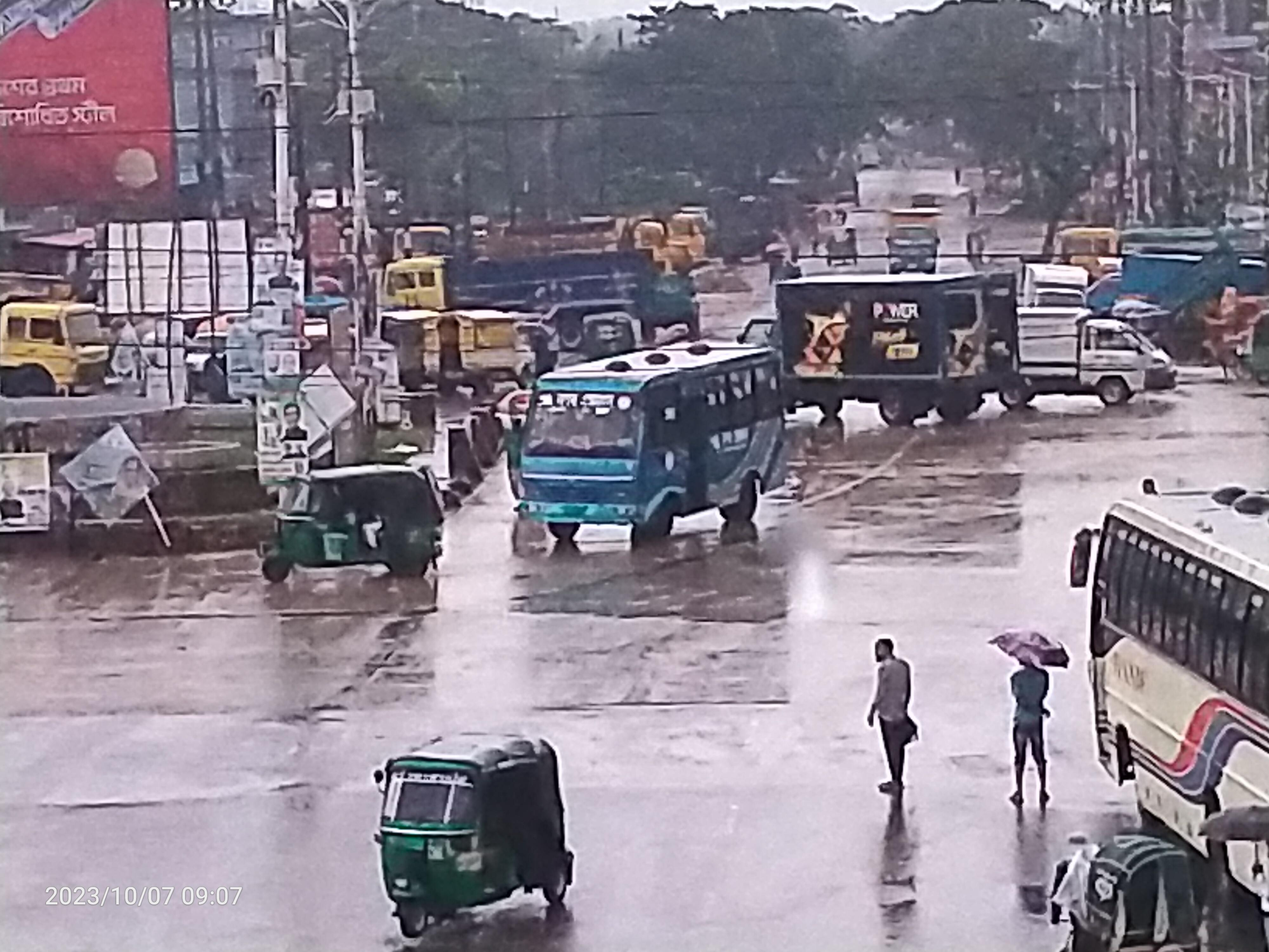Bus: (1059, 448, 1269, 905), (496, 337, 847, 583)
Car: (1024, 801, 1218, 952), (1002, 291, 1189, 421), (365, 299, 530, 408)
Truck: (730, 202, 1033, 453), (381, 205, 656, 343), (0, 258, 118, 418), (870, 201, 943, 281)
